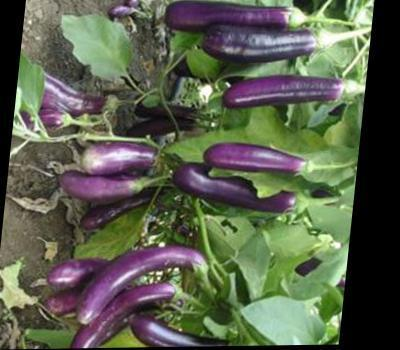eggplant: (150, 0, 362, 120), (50, 229, 236, 348), (170, 133, 328, 226), (61, 112, 178, 211)
